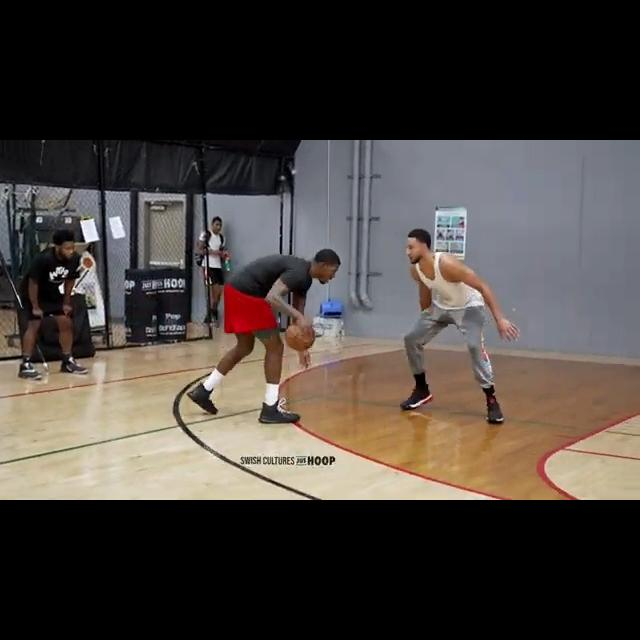basketball: (285, 322, 315, 350)
person: (184, 247, 351, 416), (401, 227, 521, 424), (14, 231, 91, 383), (192, 209, 226, 326)
